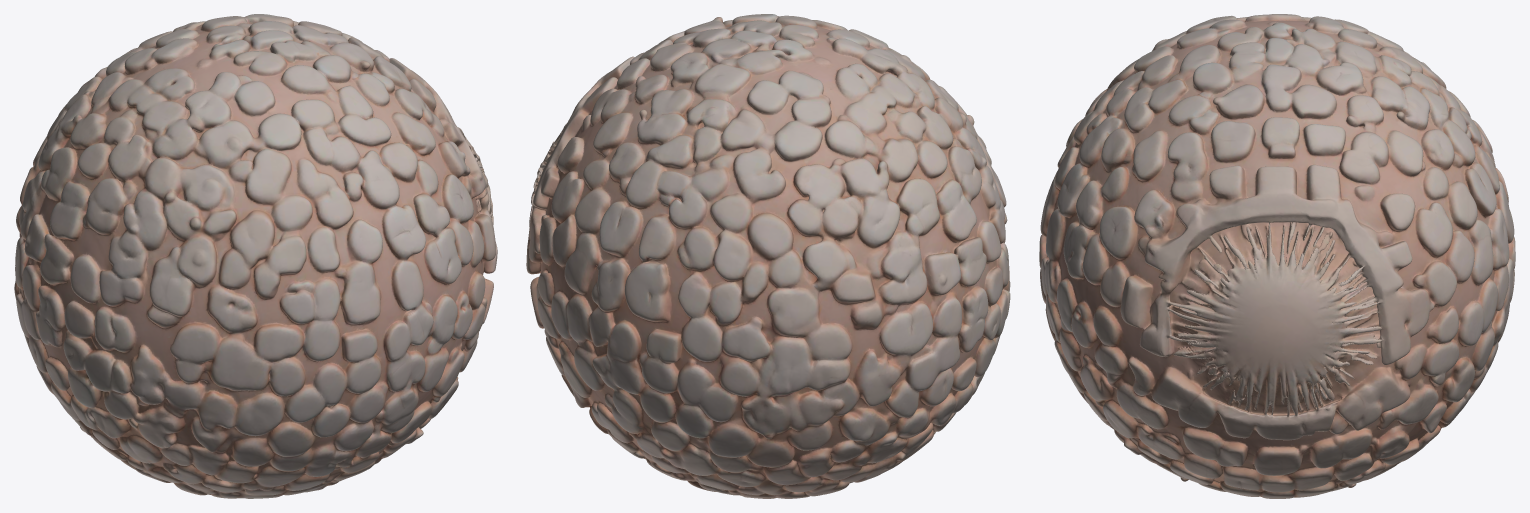
The model's file is detailed_realistic_model_solid_11.glb.
3 renders of one model, left to right at view 1: azimuth 30°, elevation 25°; view 2: azimuth 150°, elevation 25°; view 3: azimuth 270°, elevation 25°, orthographic.
Parts seen in each view (by area): view 1: tripo_node_b1dadb3b-9940-44ba-9839-001b53dcbae3; view 2: tripo_node_b1dadb3b-9940-44ba-9839-001b53dcbae3; view 3: tripo_node_b1dadb3b-9940-44ba-9839-001b53dcbae3.
Boxes of the visible parts, <box> form: tripo_node_b1dadb3b-9940-44ba-9839-001b53dcbae3: <box>14,14,497,498</box>; tripo_node_b1dadb3b-9940-44ba-9839-001b53dcbae3: <box>526,14,1010,498</box>; tripo_node_b1dadb3b-9940-44ba-9839-001b53dcbae3: <box>1039,14,1515,498</box>.
Bounding box in the file's own units: 0.9999 × 0.9746 × 0.9646.
Materials: 1 (1 with a texture image).
